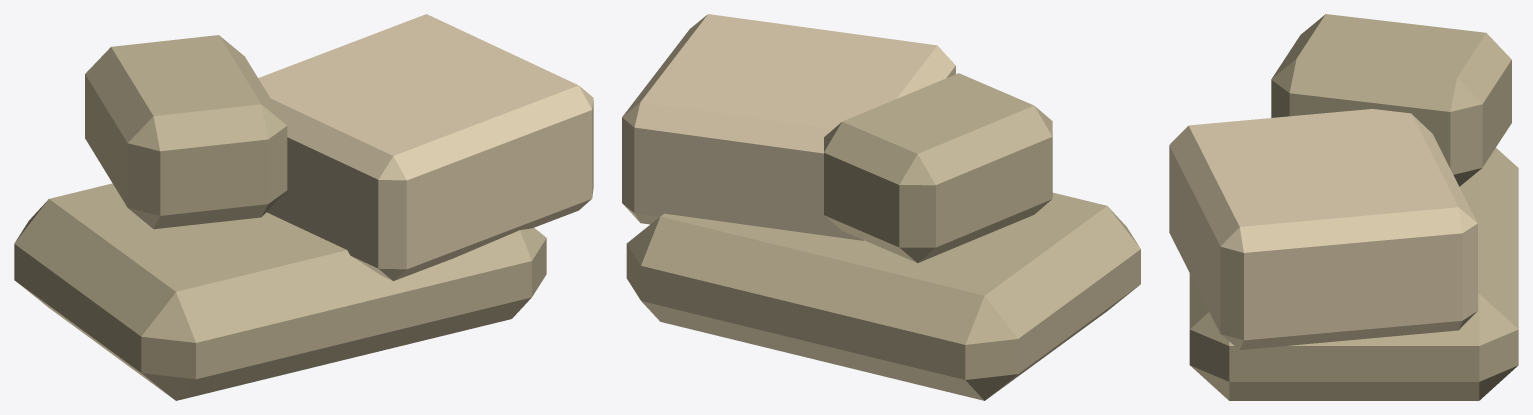
File: site-ruin-fragment.glb
3 renders of one model, left to right at view 1: azimuth 30°, elevation 25°; view 2: azimuth 150°, elevation 25°; view 3: azimuth 270°, elevation 25°, orthographic. The views are drawn at different scales.
Visible parts, largest first — view 1: Cube; view 2: Cube; view 3: Cube.
Part boxes in pixels (x1,y1,x2,y2): Cube: [14, 14, 593, 400]; Cube: [622, 14, 1140, 400]; Cube: [1169, 14, 1518, 400].
Size of the model in its own units: 0.2382 by 0.12 by 0.1594.
